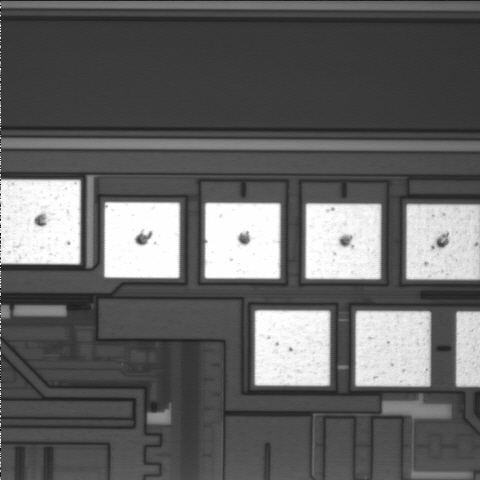pad: (104, 202, 180, 278), (205, 203, 281, 279), (305, 203, 381, 279), (255, 310, 330, 386), (355, 311, 431, 386)
